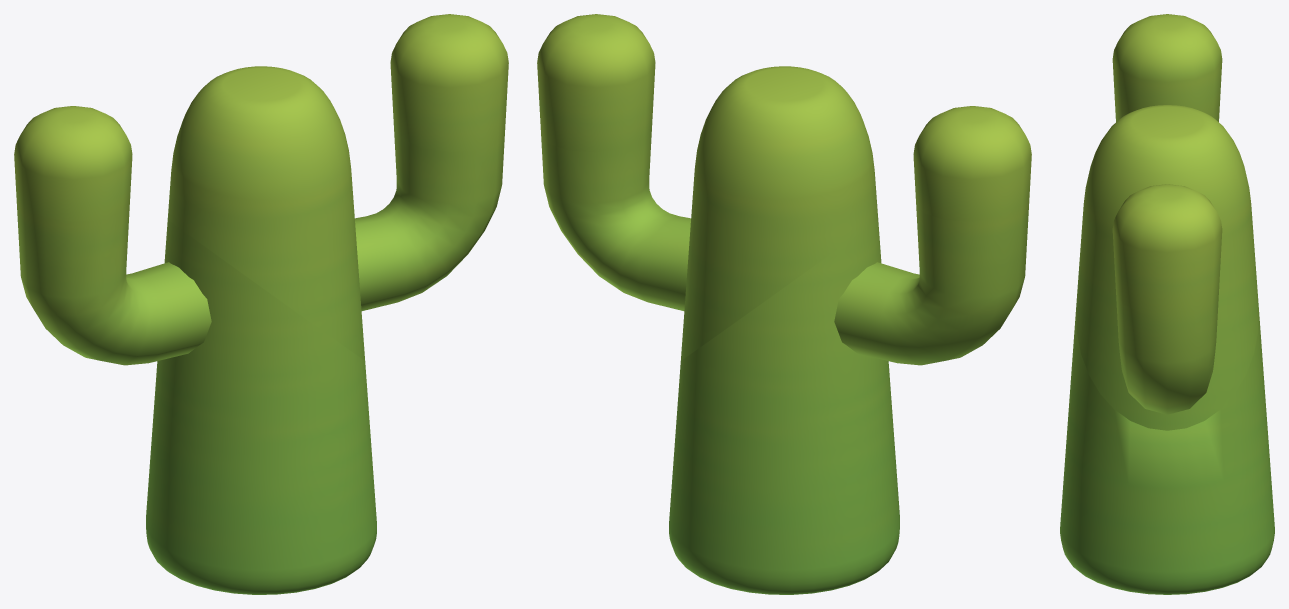
The model's file is Cactus.fbx.
The picture shows the model from 3 angles, left to right: view 1: azimuth 30°, elevation 25°; view 2: azimuth 150°, elevation 25°; view 3: azimuth 270°, elevation 25°; orthographic projection. The views are drawn at different scales.
Visible parts, largest first — view 1: Plane.010, Plane.012, Plane.013, Plane.009, Plane.011; view 2: Plane.010, Plane.012, Plane.013, Plane.009, Plane.011; view 3: Plane.010, Plane.012, Plane.009, Plane.013.
Part boxes in pixels (x1=…): Plane.010: x1=14, y1=14, x2=508, y2=221; Plane.012: x1=167, y1=128, x2=504, y2=360; Plane.013: x1=152, y1=219, x2=370, y2=479; Plane.009: x1=146, y1=432, x2=376, y2=594; Plane.011: x1=16, y1=197, x2=211, y2=365; Plane.010: x1=537, y1=14, x2=1031, y2=221; Plane.012: x1=541, y1=128, x2=878, y2=360; Plane.013: x1=675, y1=219, x2=893, y2=479; Plane.009: x1=669, y1=432, x2=899, y2=594; Plane.011: x1=834, y1=197, x2=1029, y2=365; Plane.010: x1=1084, y1=14, x2=1250, y2=316; Plane.012: x1=1076, y1=197, x2=1258, y2=430; Plane.009: x1=1060, y1=446, x2=1274, y2=594; Plane.013: x1=1066, y1=312, x2=1268, y2=488.
Size of the model in its own units: 8.36 by 8.02 by 3.5.
